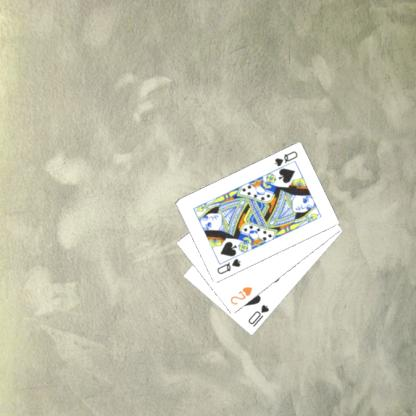10S: (245, 302, 270, 328)
2H: (227, 284, 254, 307)
QS: (214, 256, 242, 276), (272, 148, 298, 168)
